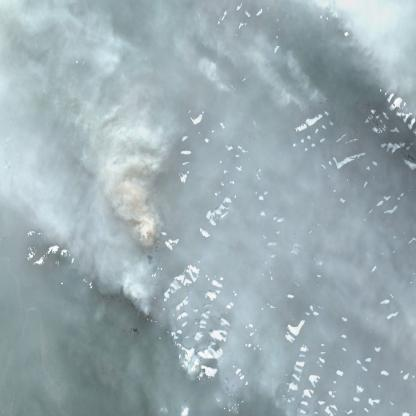fire: (108, 189, 164, 250)
